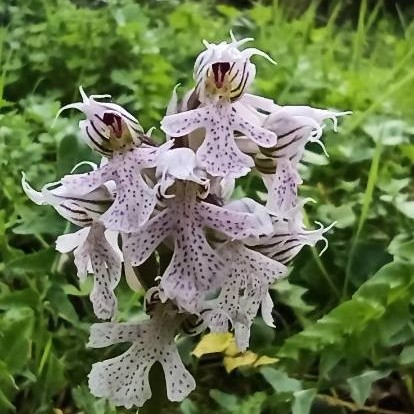obstacle: (50, 38, 335, 367)
